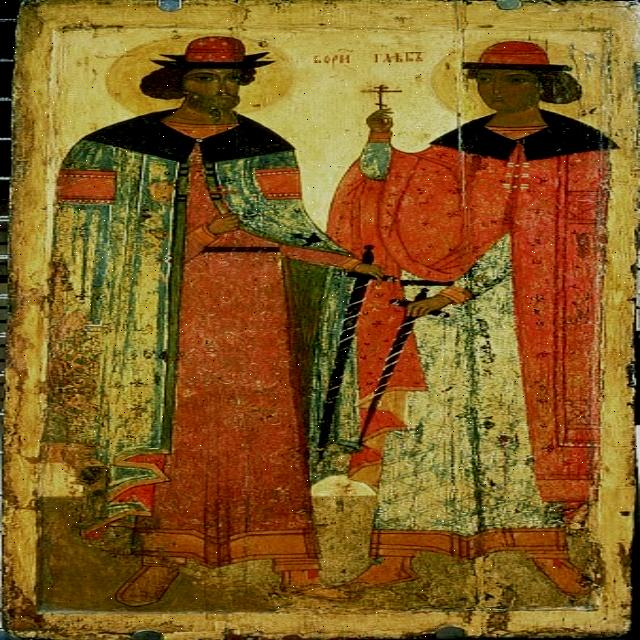aura: (104, 32, 300, 112), (431, 36, 616, 120)
cross: (366, 82, 408, 110)
saint: (348, 26, 599, 607), (72, 32, 302, 611)
sword: (348, 284, 453, 460), (302, 233, 379, 459)
